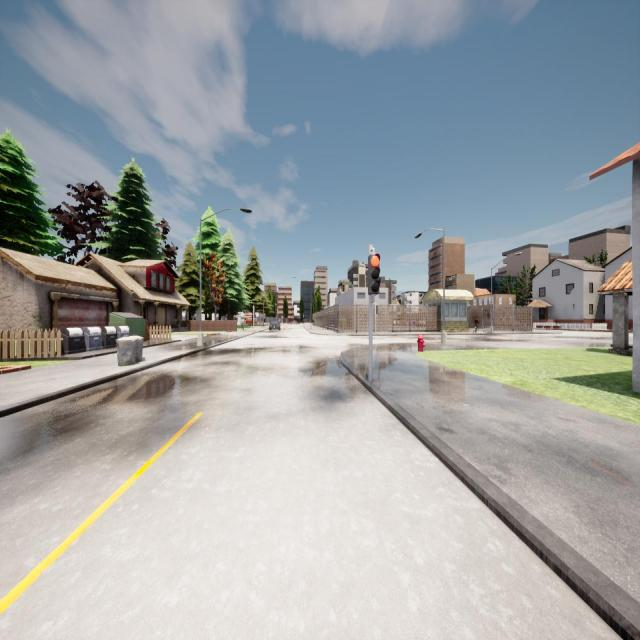Pedestrian: (474, 314, 480, 332), (241, 317, 244, 330)
Vehicle: (270, 320, 280, 330)
traffic_light: (369, 254, 379, 294), (376, 306, 378, 314)
